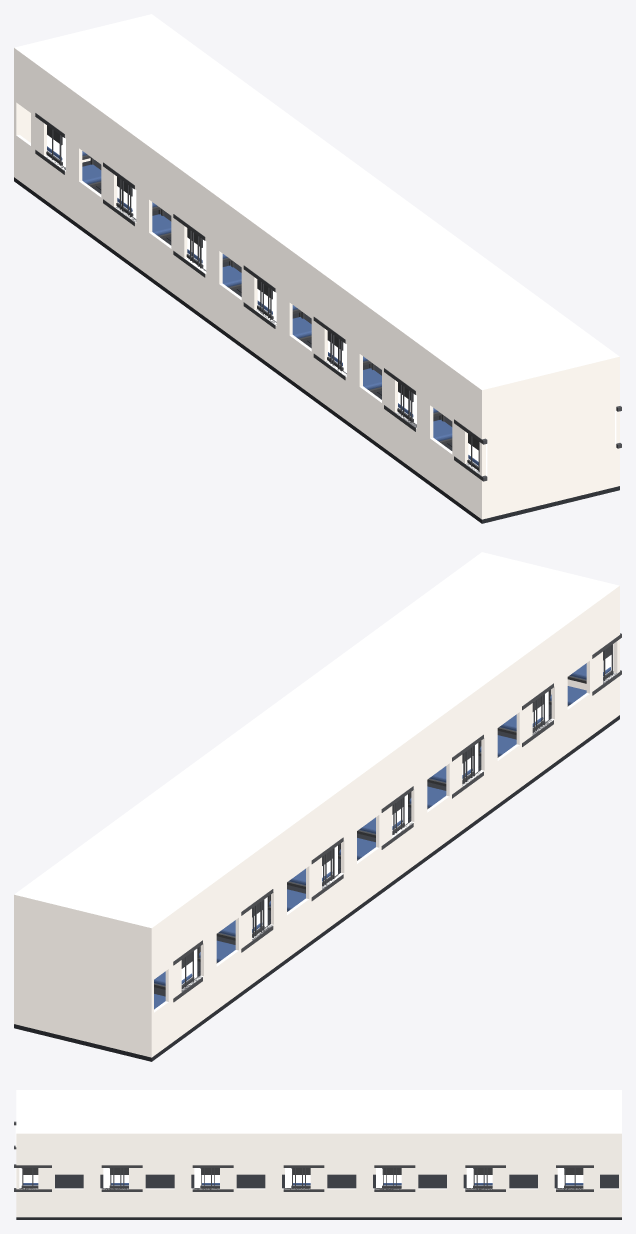
File: coach.glb
3 renders of one model, top to bottom at view 1: azimuth 30°, elevation 25°; view 2: azimuth 150°, elevation 25°; view 3: azimuth 270°, elevation 25°, orthographic. The views are drawn at different scales.
Parts seen in each view (by area): view 1: CoachWalls, CoachTrim, CoachFloor, BerthCushions, BerthFrames, CoachSky; view 2: CoachWalls, CoachTrim, CoachFloor, BerthCushions, BerthFrames, CoachSky; view 3: CoachWalls, CoachFloor, CoachTrim, CoachSky, BerthFrames, BerthCushions.
Part boxes in pixels (bbox=[...]): CoachWalls: bbox=[14, 14, 619, 519]; CoachTrim: bbox=[35, 113, 621, 481]; CoachFloor: bbox=[14, 159, 619, 523]; BerthCushions: bbox=[47, 146, 478, 465]; BerthFrames: bbox=[46, 125, 478, 470]; CoachSky: bbox=[47, 135, 616, 475]; CoachWalls: bbox=[14, 552, 619, 1057]; CoachTrim: bbox=[173, 633, 621, 1002]; CoachFloor: bbox=[14, 704, 619, 1061]; BerthCushions: bbox=[154, 663, 610, 1009]; BerthFrames: bbox=[154, 645, 613, 989]; CoachSky: bbox=[181, 644, 613, 984]; CoachWalls: bbox=[16, 1090, 621, 1217]; CoachFloor: bbox=[16, 1174, 621, 1219]; CoachTrim: bbox=[14, 1121, 593, 1191]; CoachSky: bbox=[15, 1126, 583, 1187]; BerthFrames: bbox=[21, 1168, 583, 1188]; BerthCushions: bbox=[23, 1183, 583, 1185].
Bounding box in the file's own units: 3.42 × 3.15 × 20.07.
